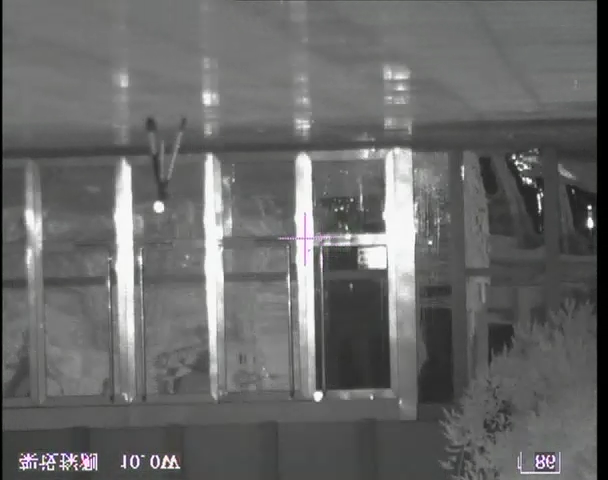my: (151, 200, 166, 215)
